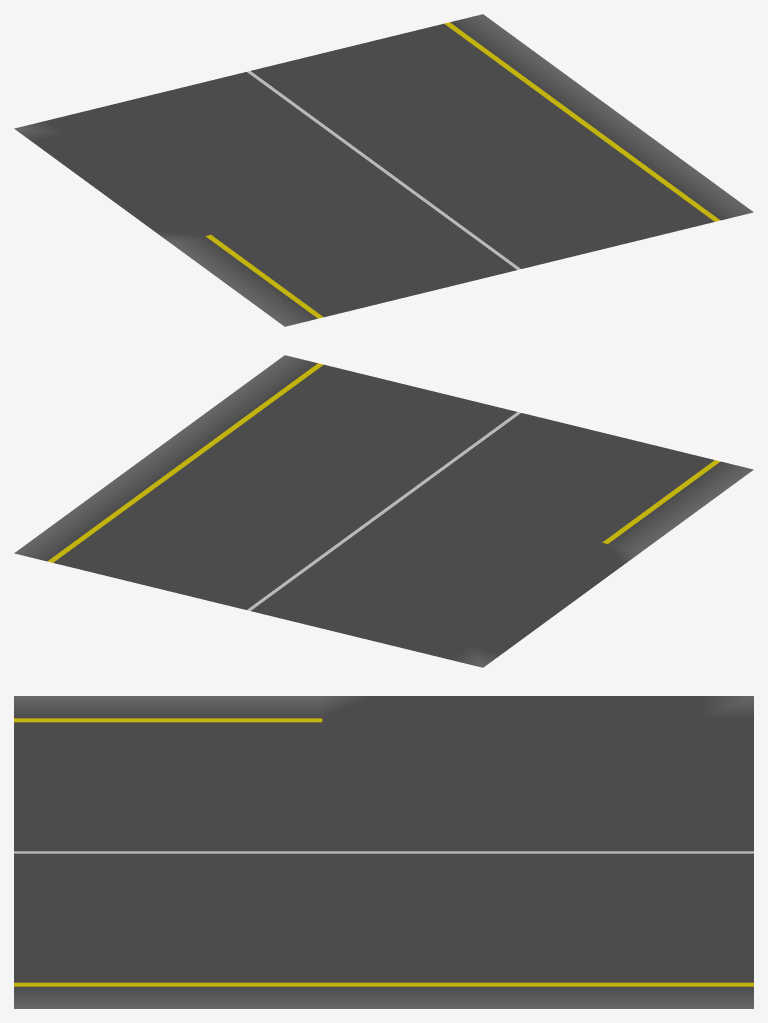
File: Troad_4_ex.fbx
3 views of the same model, one above another, from view 1: azimuth 30°, elevation 25°; view 2: azimuth 150°, elevation 25°; view 3: azimuth 270°, elevation 25° (orthographic). The views are drawn at different scales.
Visible parts, largest first — view 1: Troad_4_ex; view 2: Troad_4_ex; view 3: Troad_4_ex.
Part boxes in pixels (left/top/right/bottom): Troad_4_ex: left=14, top=14, right=753, bottom=326; Troad_4_ex: left=14, top=355, right=753, bottom=667; Troad_4_ex: left=14, top=696, right=753, bottom=1008.
Size of the model in its own units: 12 by 12 by 0.
